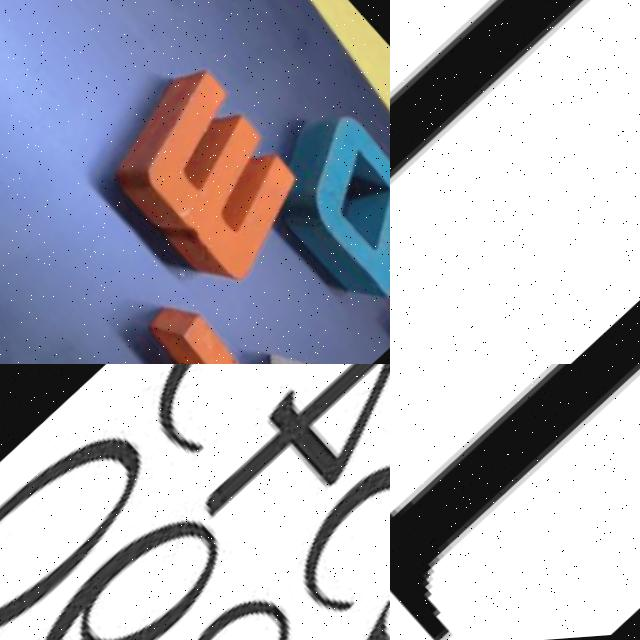0: (0, 410, 174, 640)
3: (272, 375, 390, 636)
4: (180, 364, 390, 571)
5: (122, 364, 389, 469)
8: (56, 576, 327, 640)
9: (0, 491, 256, 640)
D: (248, 109, 390, 330)
E: (58, 292, 321, 364)
L: (390, 364, 640, 640)
T: (390, 0, 640, 364)
W: (85, 63, 335, 312)
